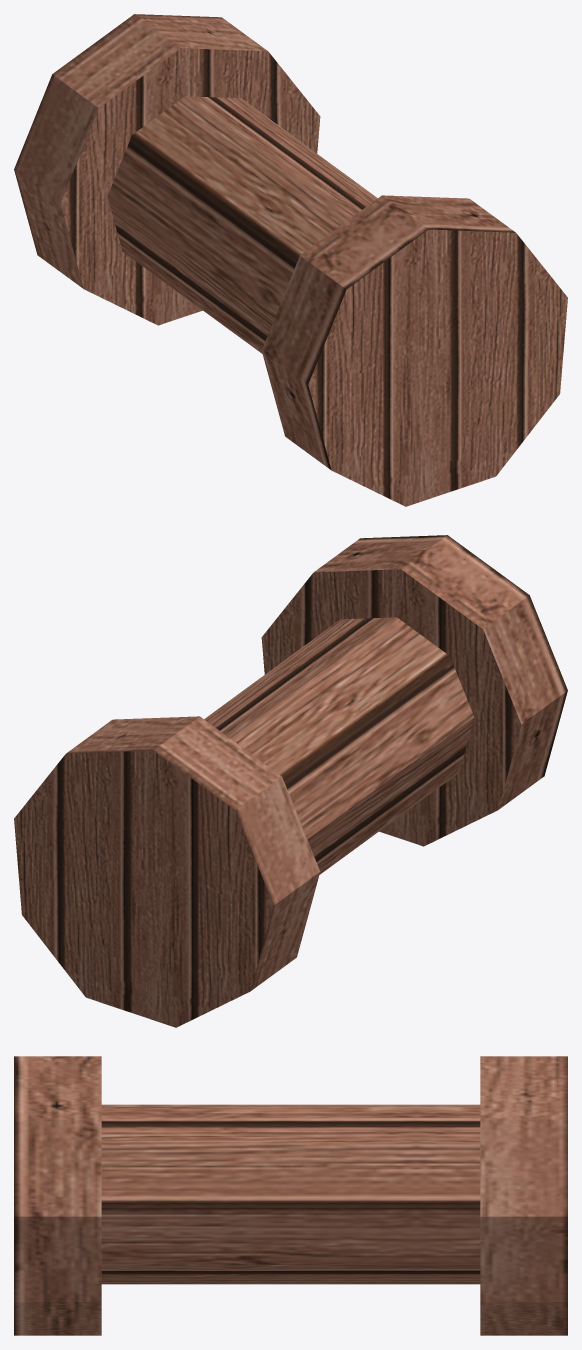
File: CatapultaCilindro.fbx
The picture shows the model from 3 angles, top to bottom: view 1: azimuth 30°, elevation 25°; view 2: azimuth 150°, elevation 25°; view 3: azimuth 270°, elevation 25°; orthographic projection. The views are drawn at different scales.
Visible parts, largest first — view 1: Cylinder; view 2: Cylinder; view 3: Cylinder.
Part boxes in pixels (box(x1,y1,x2,y2)): Cylinder: box(14, 14, 567, 506); Cylinder: box(14, 535, 567, 1027); Cylinder: box(14, 1056, 567, 1335).
Bounding box in the file's own units: 76.81 × 76.81 × 151.
